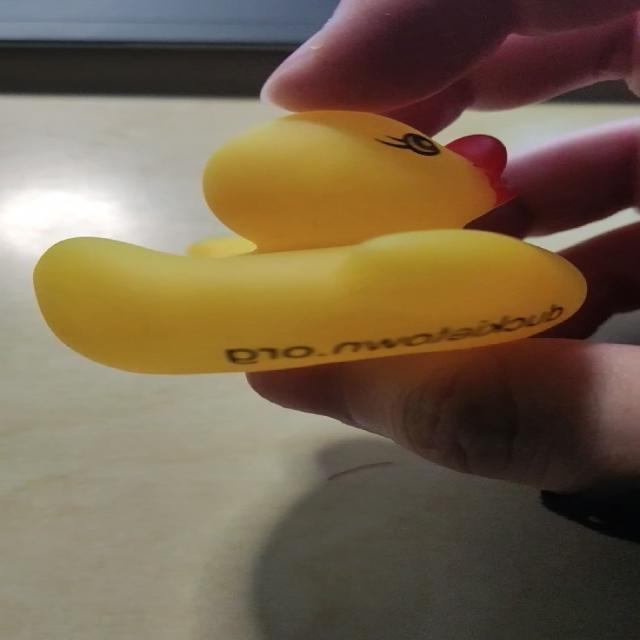rubber-duck: (33, 110, 584, 371)
